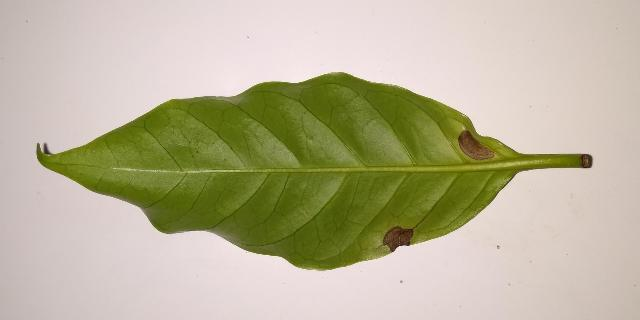rust: (458, 130, 495, 160), (382, 227, 413, 253)
